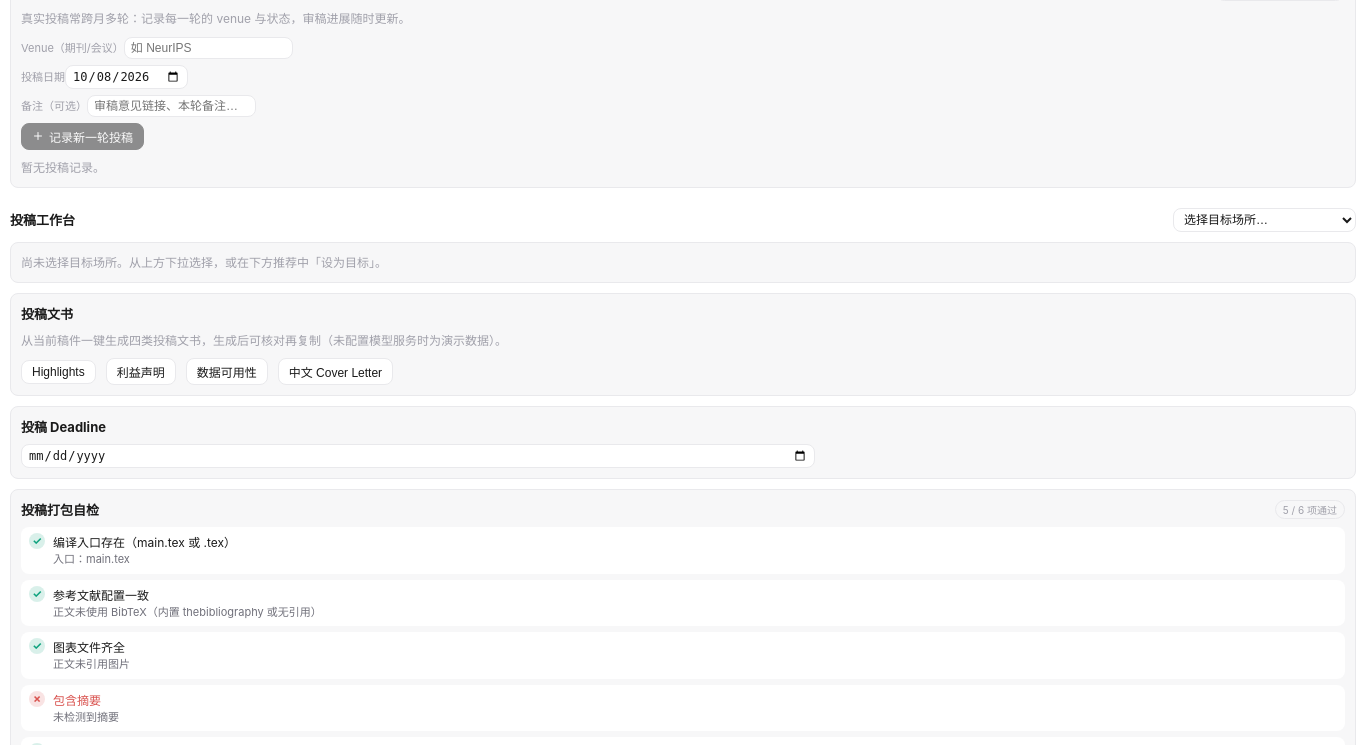
Test: SubmitPanel「投稿文书」区 › 利益声明结果以纯文本渲染（非列表）
(page scrolled)
Click the button "利益声明": [141, 372] box top-left (106, 358), bottom-right (176, 385)
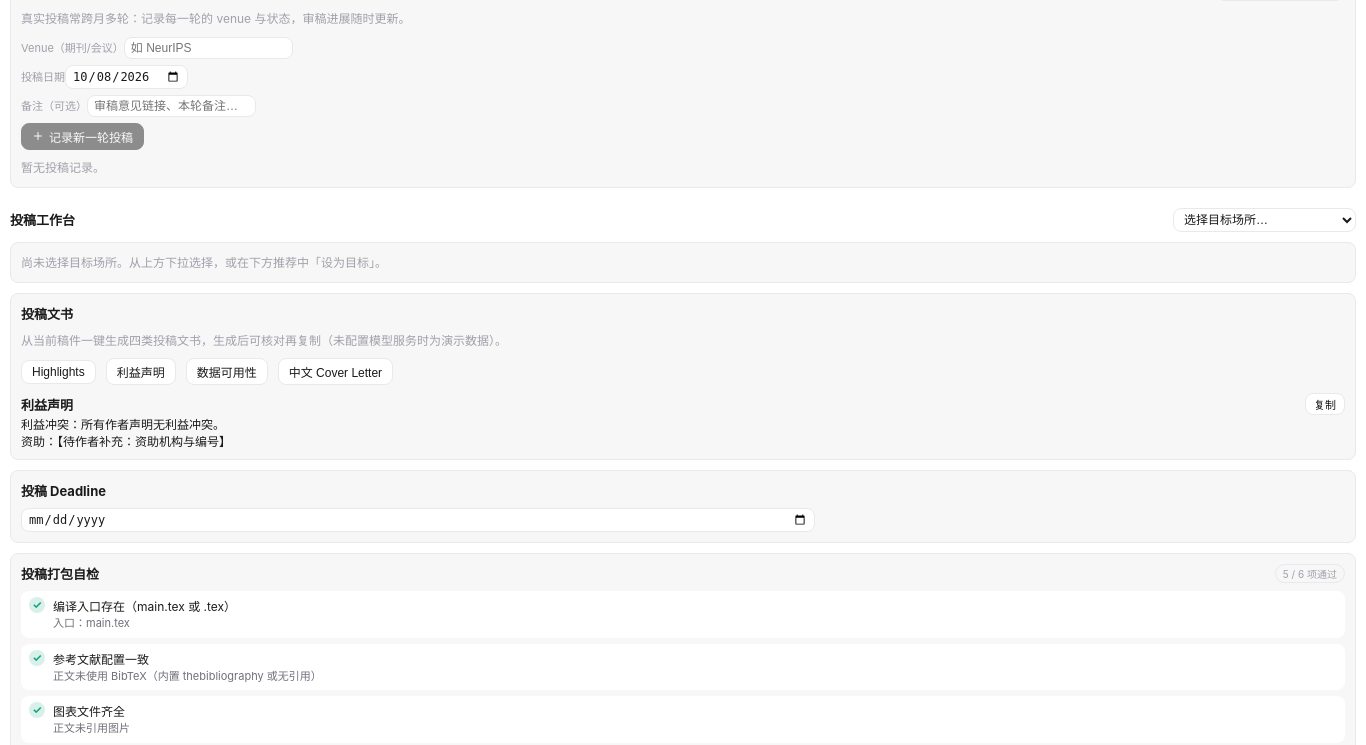
Expected: the text "利益冲突：所有作者声明无利益冲突。" is shown, top-left (21, 417), bottom-right (231, 449)
Expected: the text "【待作者补充：资助机构与编号】" is shown, top-left (21, 417), bottom-right (231, 449)
